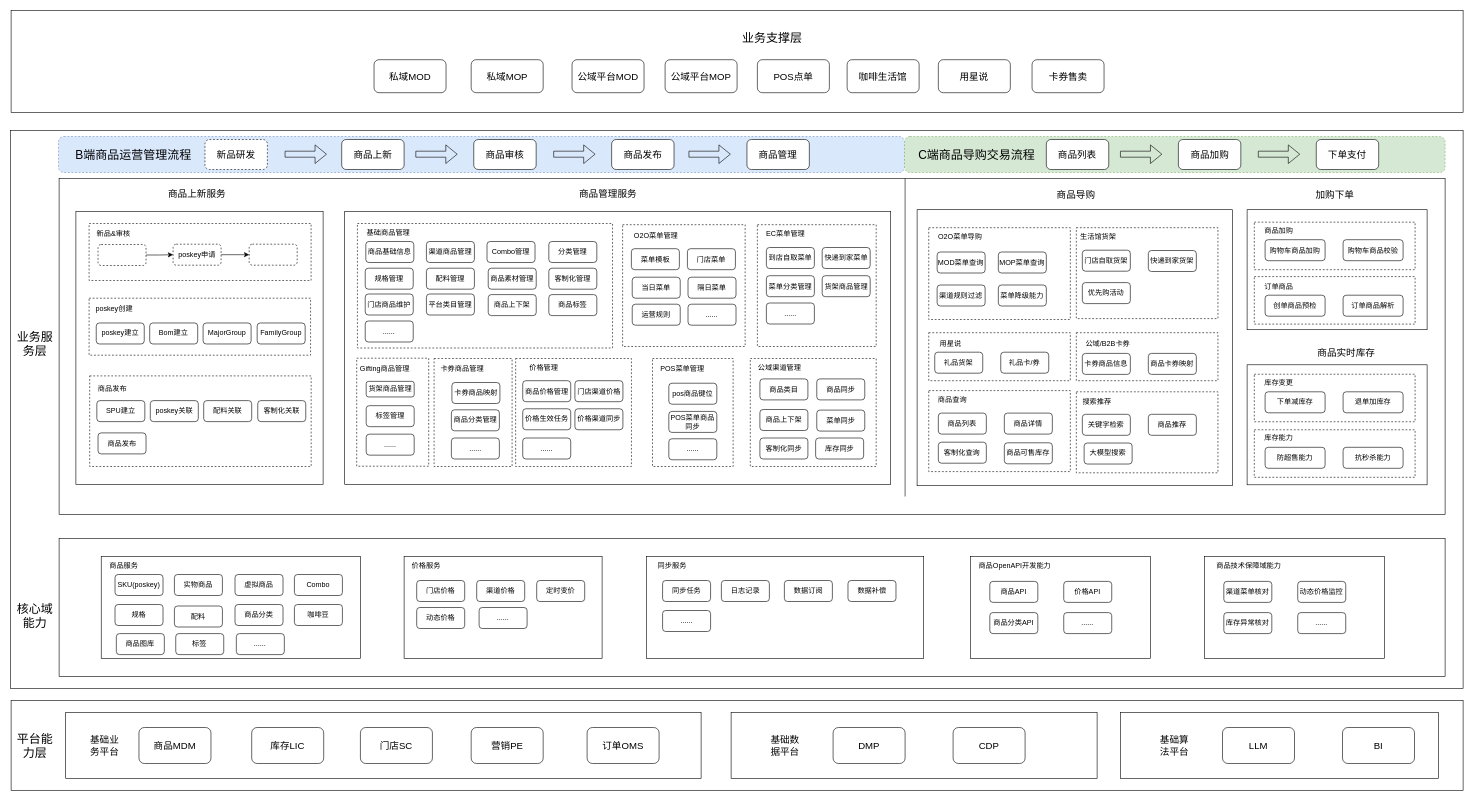
Some shapes in this 1474 by 802 pixel diagram are drawn without their labels. The shapes that lost their labels are listed below. From the top down, each one's centre as x and y in pixels, then its label:
(121,255): 新品创建
(273,254): poskey审核
